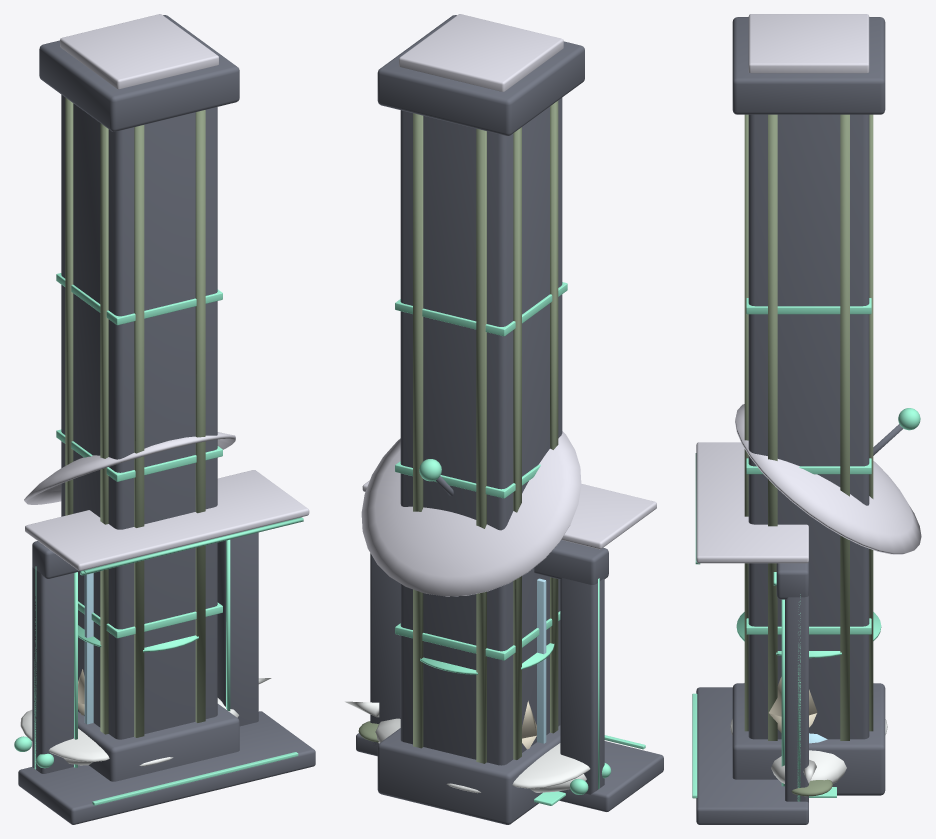
The model's file is fut.glb.
3 views of the same model, side by side, from view 1: azimuth 30°, elevation 25°; view 2: azimuth 150°, elevation 25°; view 3: azimuth 270°, elevation 25° (orthographic). The views are drawn at different scales.
Visible parts, largest first — view 1: pillar, sdoor, dish, hover, monolith; view 2: pillar, sdoor, dish, hover, monolith; view 3: pillar, sdoor, dish, hover, monolith.
Boxes of the visible parts, bbox=[...] form: pillar: bbox=[39, 14, 239, 781]; sdoor: bbox=[18, 470, 315, 824]; dish: bbox=[24, 432, 235, 504]; hover: bbox=[14, 678, 271, 768]; monolith: bbox=[78, 625, 198, 715]; pillar: bbox=[377, 14, 584, 824]; sdoor: bbox=[356, 480, 663, 811]; dish: bbox=[361, 431, 581, 596]; hover: bbox=[345, 701, 611, 805]; monolith: bbox=[420, 643, 554, 749]; pillar: bbox=[732, 14, 885, 795]; sdoor: bbox=[692, 442, 808, 824]; dish: bbox=[735, 404, 921, 554]; hover: bbox=[730, 683, 887, 797]; monolith: bbox=[736, 612, 881, 732].
Bounding box in the file's own units: 3.75 × 10.12 × 2.85.
